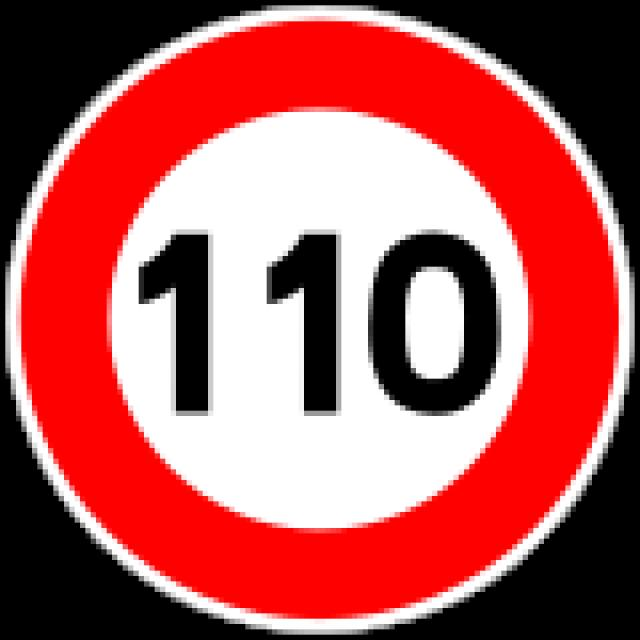Speed Limit -110-: (115, 198, 514, 452)
